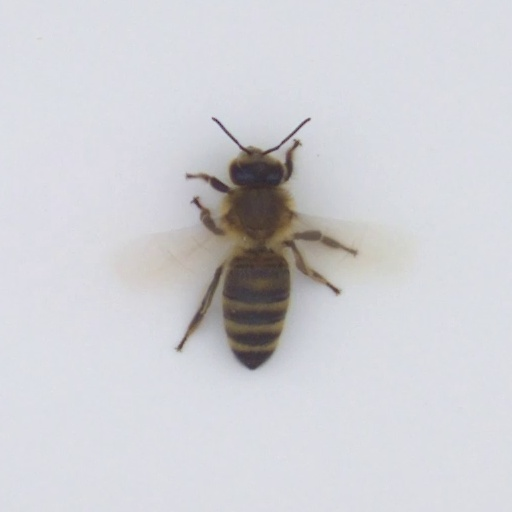Bee: (222, 140, 292, 368)
Thorax: (223, 186, 288, 246)
